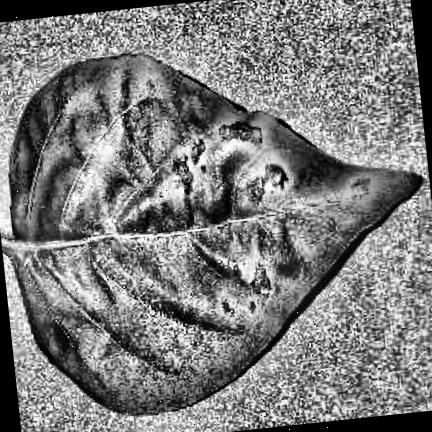leaf: (1, 55, 418, 413)
